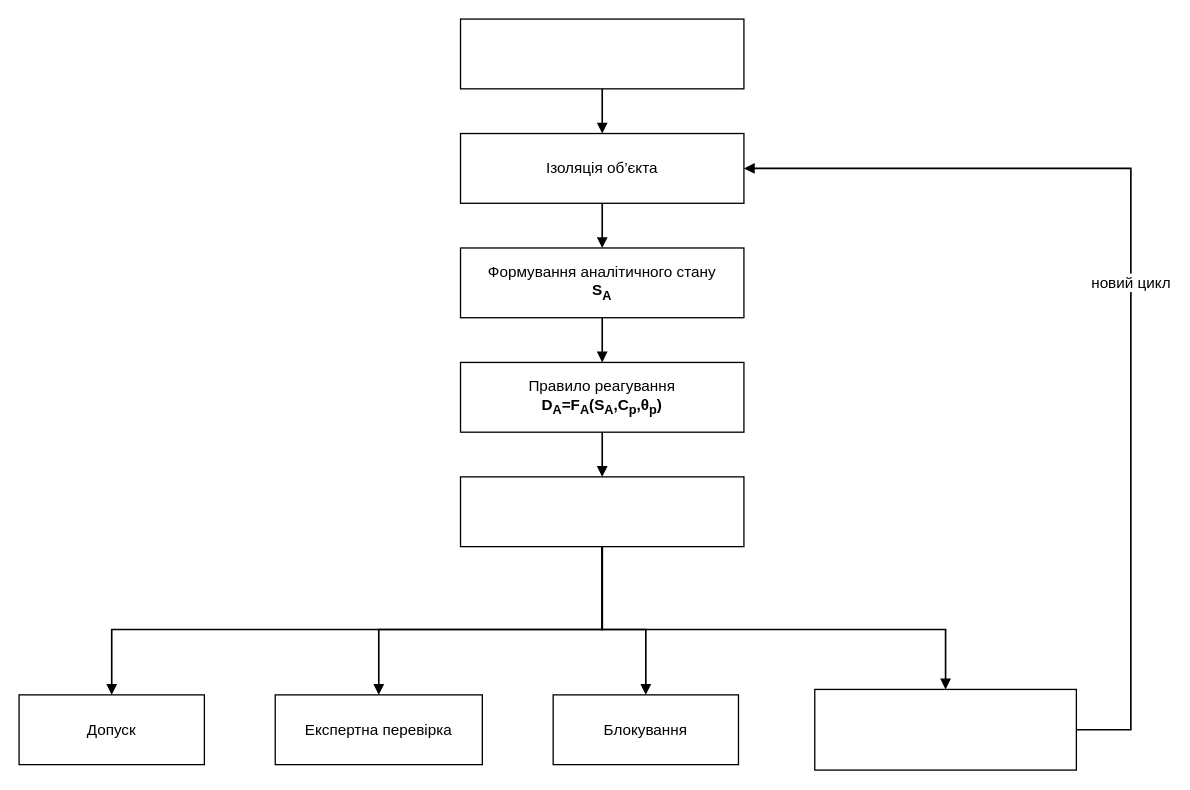
Image size: 1190x790. Some labels were removed from this diagram. The centre of each missing label's shape, as x and y in pixels:
"Зареєстрований результат S 5 =F R (S 4 ,C R )" goes at (x=601, y=511).
"Початковий об’єкт X mm" goes at (x=601, y=53).
"Реконструйований об’єкт X mm,j" goes at (x=945, y=729).
